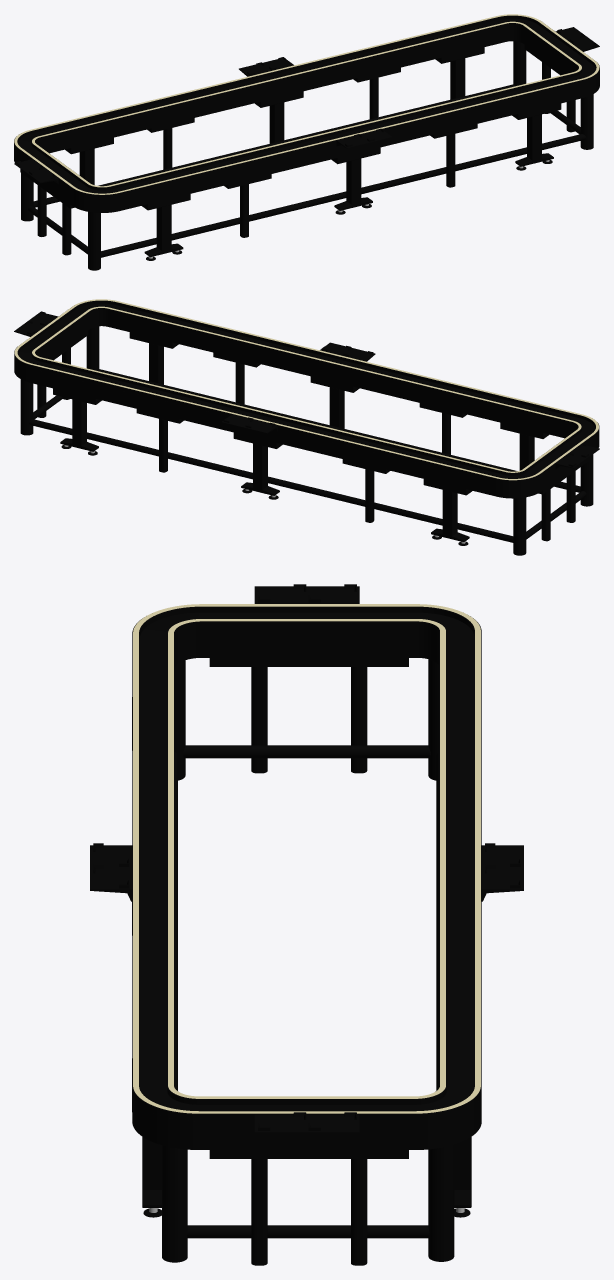
Rendered from Cinta mejorada.fbx.
The picture shows the model from 3 angles, top to bottom: view 1: azimuth 30°, elevation 25°; view 2: azimuth 150°, elevation 25°; view 3: azimuth 270°, elevation 25°; orthographic projection. The views are drawn at different scales.
Visible parts, largest first — view 1: Cinta; view 2: Cinta; view 3: Cinta.
Part boxes in pixels (bbox=[...]): Cinta: bbox=[14, 14, 599, 270]; Cinta: bbox=[14, 299, 599, 555]; Cinta: bbox=[90, 584, 523, 1265].
Size of the model in its own units: 518 by 70.75 by 174.
